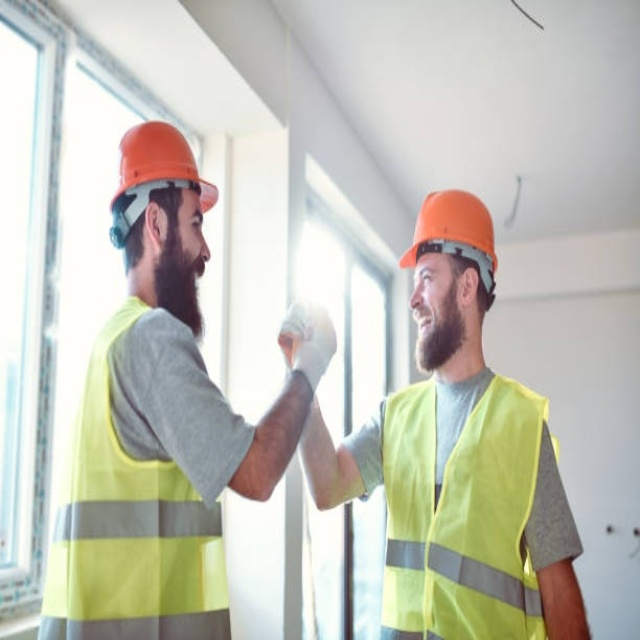Guantes: (278, 299, 336, 394)
Sin_gafas: (411, 264, 444, 290), (178, 204, 204, 234)
Sin_mascara: (187, 257, 208, 303), (413, 309, 440, 344)
